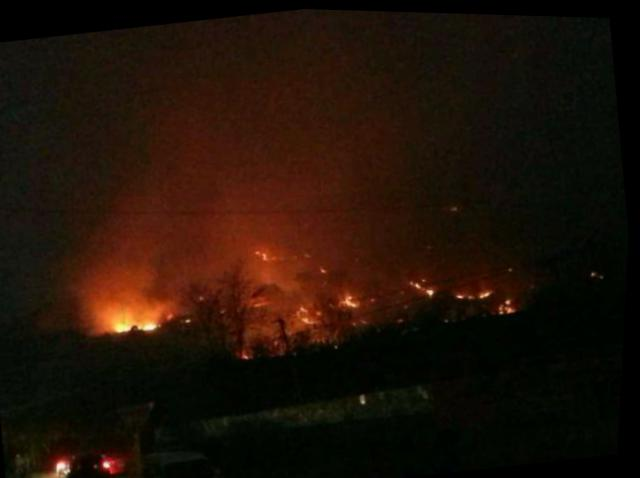fire: (93, 285, 164, 336), (457, 284, 495, 298), (339, 284, 360, 305), (299, 300, 316, 323), (496, 294, 516, 309), (410, 274, 425, 288), (426, 281, 434, 290)
